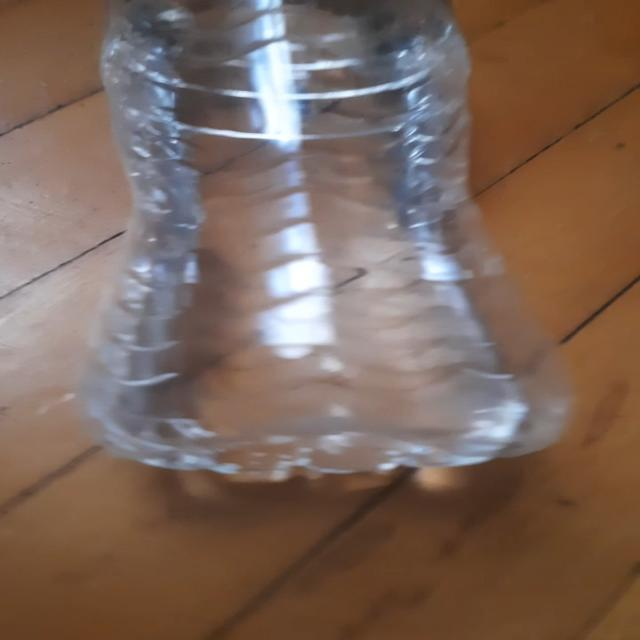Plastic: (82, 0, 567, 468)
